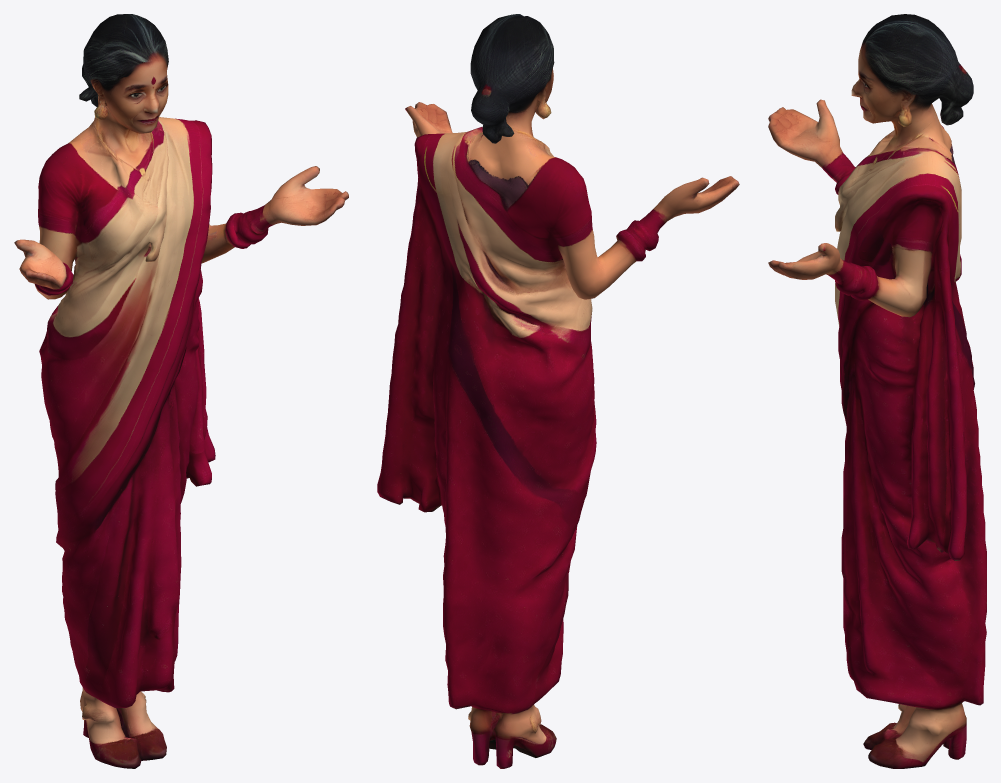
File: Meshy_AI_Stylized_semi_realist_0424223151_texture.glb
3 renders of one model, left to right at view 1: azimuth 30°, elevation 25°; view 2: azimuth 150°, elevation 25°; view 3: azimuth 270°, elevation 25°, orthographic.
Bounding box in the file's own units: 0.8806 × 1.91 × 0.5127.
1 material, 1 textured.
